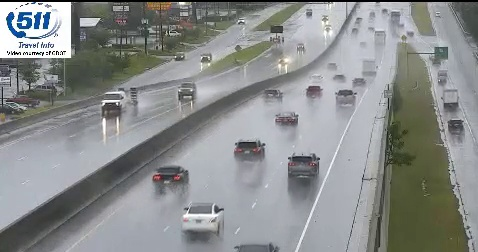car: (182, 203, 223, 232), (153, 166, 189, 189), (288, 153, 319, 177), (234, 139, 265, 160), (275, 111, 298, 127), (336, 89, 355, 106)
